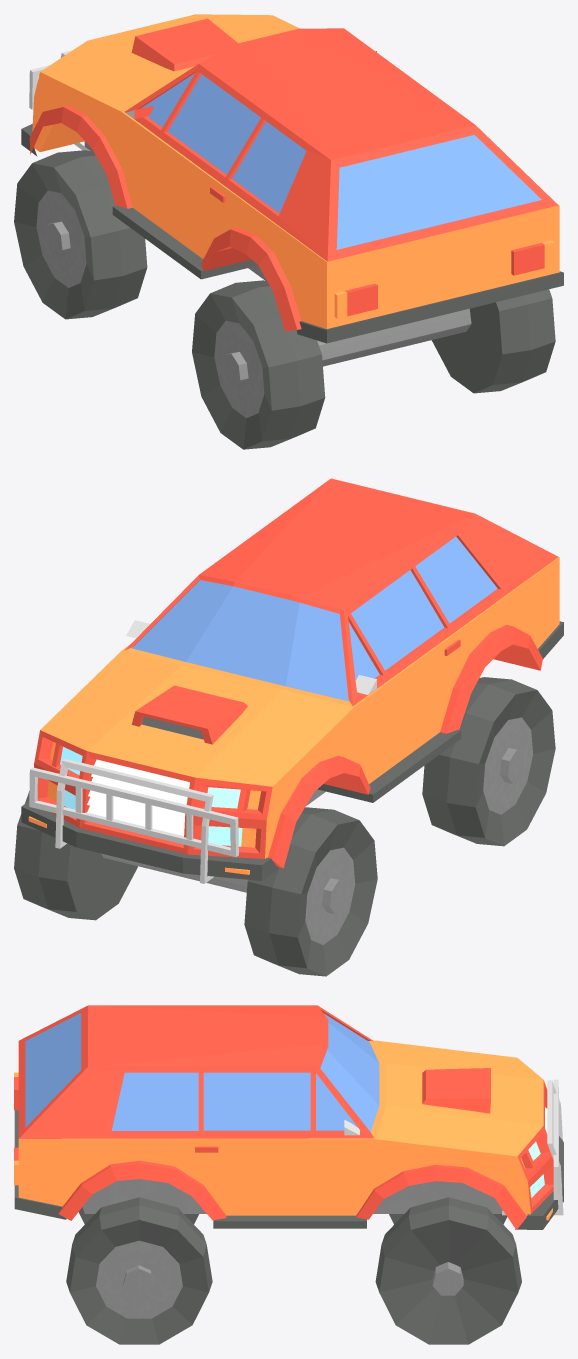
File: transport_jeep.009.glb
3 renders of one model, top to bottom at view 1: azimuth 30°, elevation 25°; view 2: azimuth 150°, elevation 25°; view 3: azimuth 270°, elevation 25°, orthographic. The views are drawn at different scales.
Visible parts, largest first — view 1: transport_jeep.009(Clone); view 2: transport_jeep.009(Clone); view 3: transport_jeep.009(Clone).
Boxes of the visible parts, x1,y1,x2,y2 form: transport_jeep.009(Clone): (14,14,563,449); transport_jeep.009(Clone): (14,478,563,976); transport_jeep.009(Clone): (14,1005,563,1344).
Size of the model in its own units: 1.92 by 1.9 by 3.68.
1 material, 1 textured.
